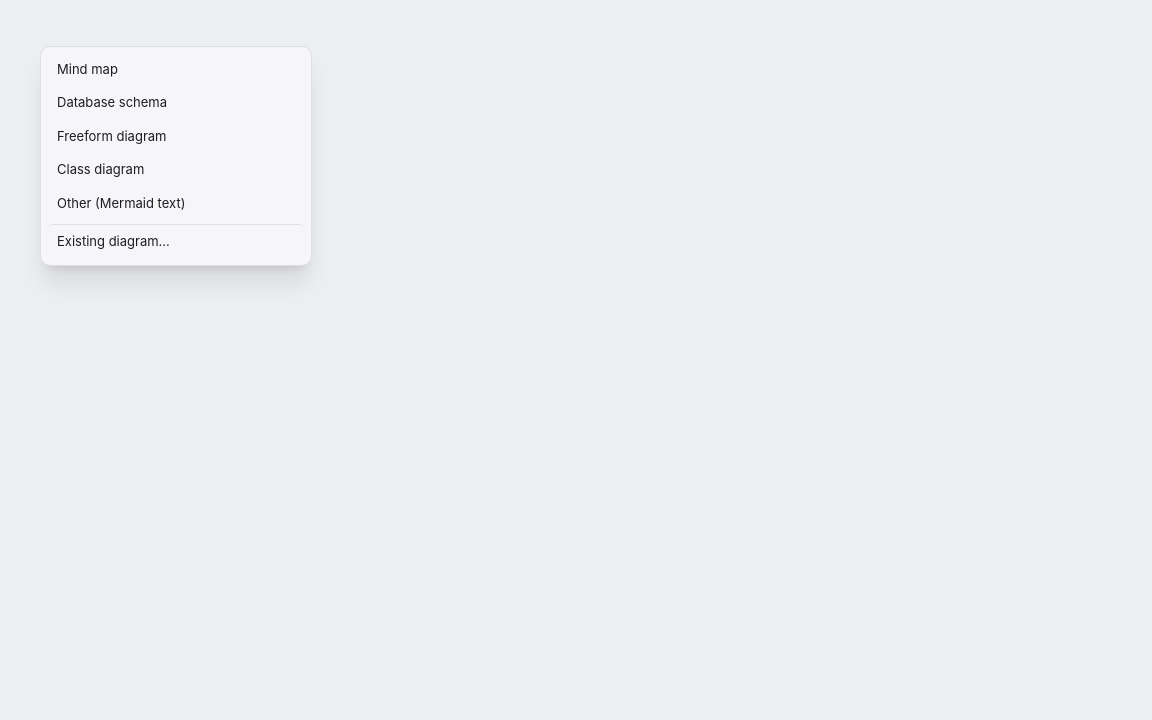
Test case: reusing a diagram another document holds › is reached from the new diagram menu, and says when there is nothing to reuse
The width and height of the screenshot is (1152, 720).
What coordinates should you click on to do the following:
click the menu item "Existing diagram…"
I would click on:
 (176, 241)
Its box is [47, 224, 305, 259].
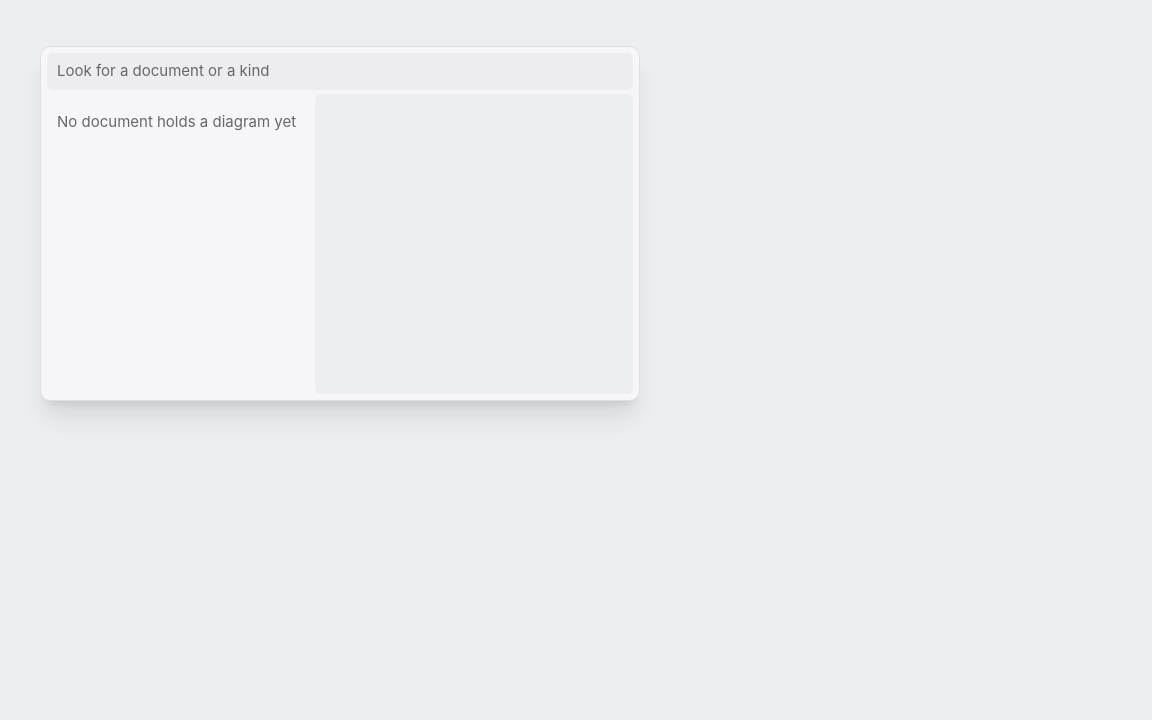
Now the text "No document holds a diagram yet" is shown, box [57, 112, 296, 131]
